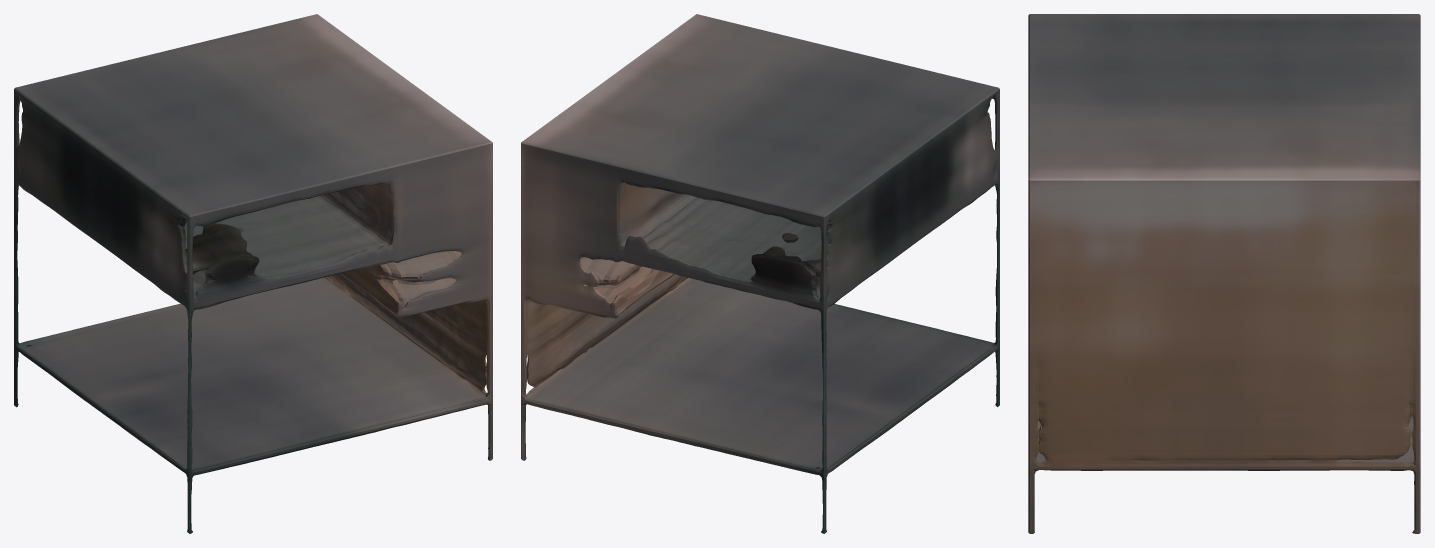
File: tmpa9bv2z4u.glb
3 views of the same model, side by side, from view 1: azimuth 30°, elevation 25°; view 2: azimuth 150°, elevation 25°; view 3: azimuth 270°, elevation 25° (orthographic). The views are drawn at different scales.
Visible parts, largest first — view 1: tmpubqqiv2_.ply; view 2: tmpubqqiv2_.ply; view 3: tmpubqqiv2_.ply.
Boxes of the visible parts, x1,y1,x2,y2 form: tmpubqqiv2_.ply: (14, 14, 492, 533); tmpubqqiv2_.ply: (521, 14, 999, 533); tmpubqqiv2_.ply: (1028, 14, 1420, 533).
Bounding box in the file's own units: 1.98 × 1.98 × 1.98.
